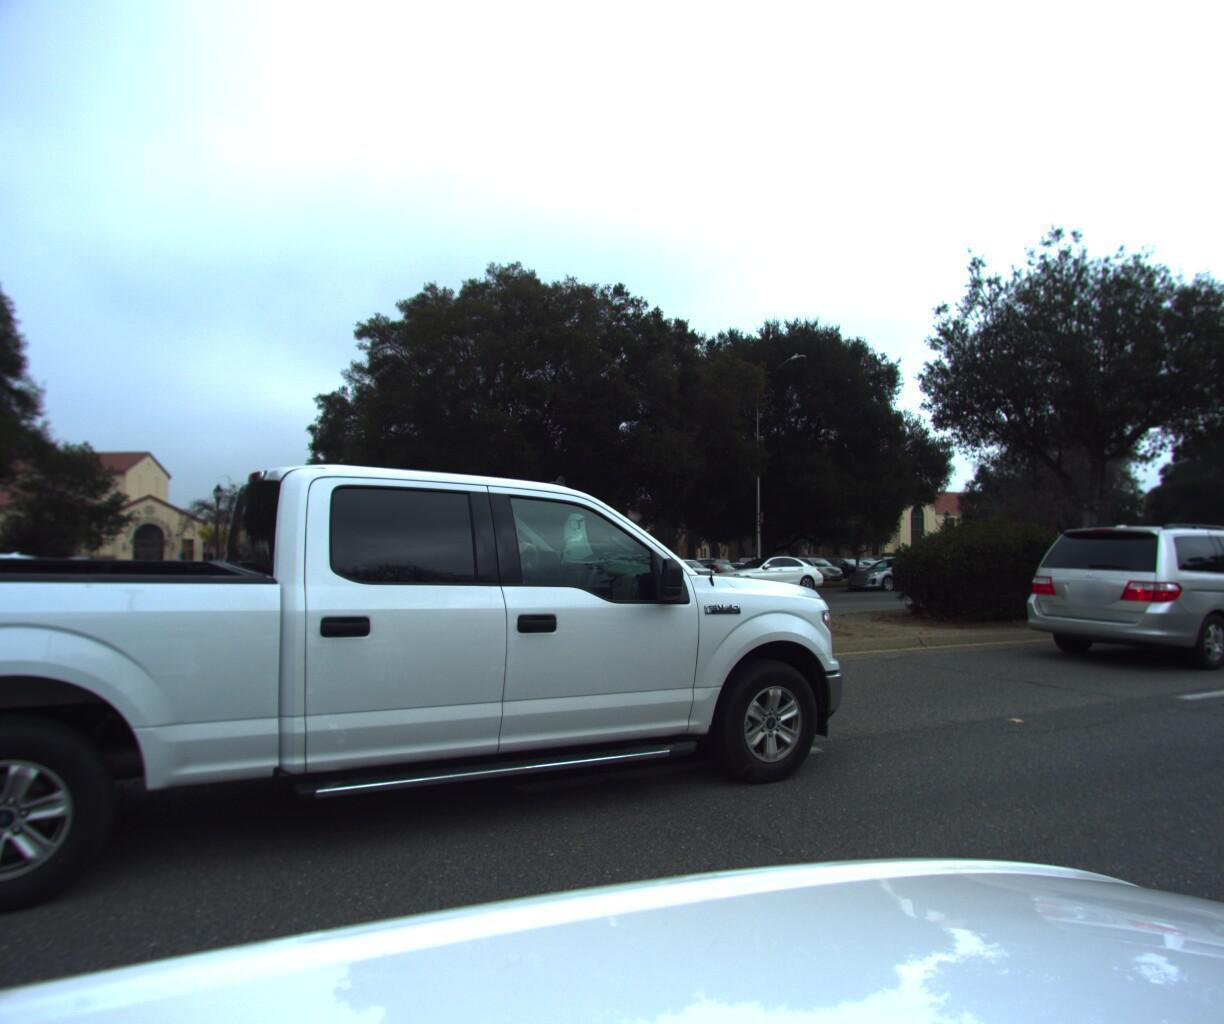car: (0, 400, 891, 1001), (1000, 516, 1224, 676), (537, 542, 691, 596), (0, 549, 91, 618), (696, 550, 831, 592), (835, 553, 952, 589)
